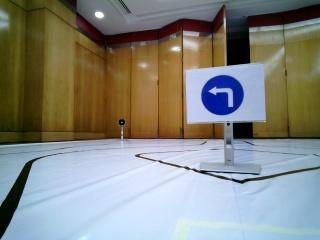left: (189, 74, 265, 120), (244, 142, 245, 142)
